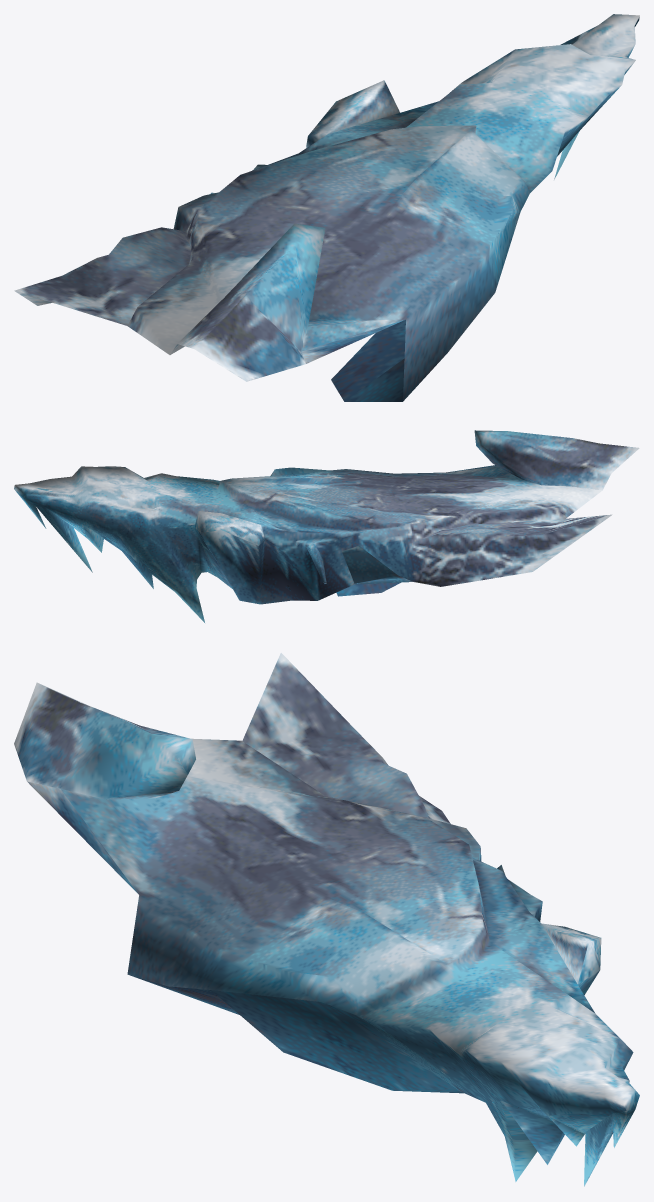
Rendered from bs_binshan_13.FBX.
3 renders of one model, top to bottom at view 1: azimuth 30°, elevation 25°; view 2: azimuth 150°, elevation 25°; view 3: azimuth 270°, elevation 25°, orthographic. The views are drawn at different scales.
Parts seen in each view (by area): view 1: bs_binshan_13; view 2: bs_binshan_13; view 3: bs_binshan_13.
Boxes of the visible parts, x1,y1,x2,y2 form: bs_binshan_13: (14,14,639,401); bs_binshan_13: (14,430,639,622); bs_binshan_13: (14,653,639,1186).
Bounding box in the file's own units: 7987 × 2544 × 5040.
